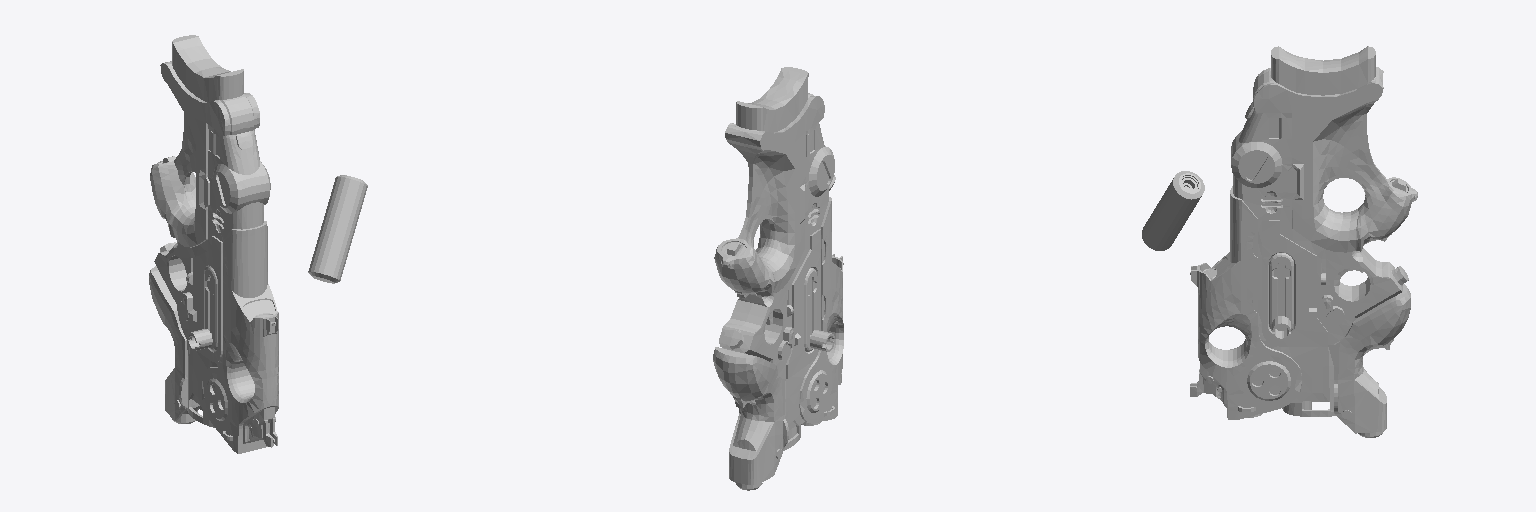
The model's file is Laser_Assault_Rifle.obj.
The picture shows the model from 3 angles: view 1: azimuth 30°, elevation 25°; view 2: azimuth 150°, elevation 25°; view 3: azimuth 270°, elevation 25°; orthographic projection.
Parts seen in each view (by area): view 1: mesh0_dat_desirefx_me_, mesh1_dat_desirefx_me_; view 2: mesh0_dat_desirefx_me_; view 3: mesh0_dat_desirefx_me_, mesh1_dat_desirefx_me_.
Boxes of the visible parts, <box> form: mesh0_dat_desirefx_me_: <box>149,35,278,453</box>; mesh1_dat_desirefx_me_: <box>308,175,367,283</box>; mesh0_dat_desirefx_me_: <box>713,67,843,490</box>; mesh0_dat_desirefx_me_: <box>1190,46,1417,437</box>; mesh1_dat_desirefx_me_: <box>1142,171,1204,250</box>.
Size of the model in its own units: 6.92 by 20 by 13.17.